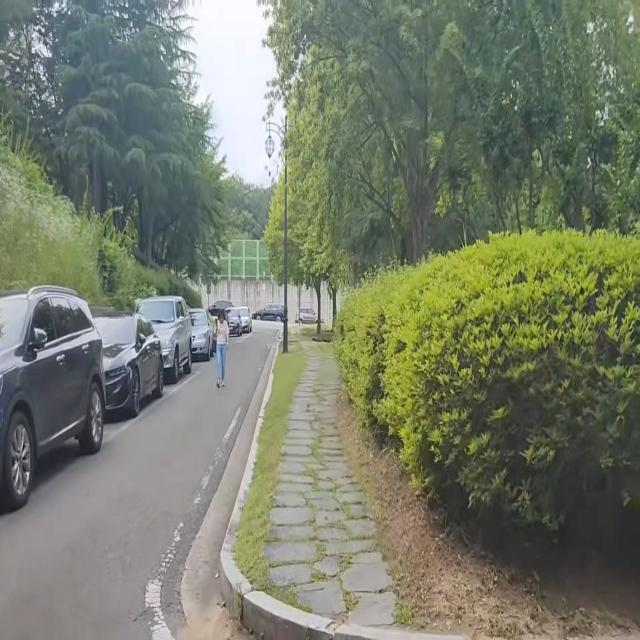obstacle: (0, 277, 117, 535), (83, 295, 172, 443), (121, 283, 200, 397), (208, 292, 236, 391)
road: (0, 326, 279, 640)
sidewalk: (221, 342, 399, 631)
